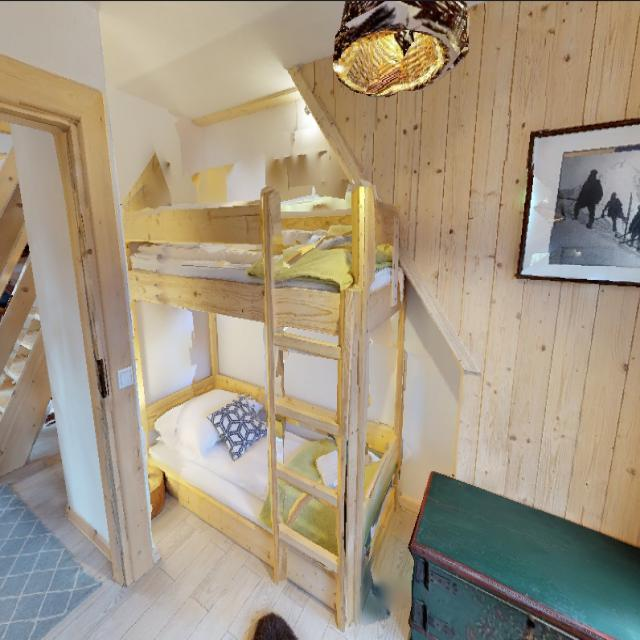bed: (152, 364, 407, 608)
door-frame: (0, 89, 121, 640)
